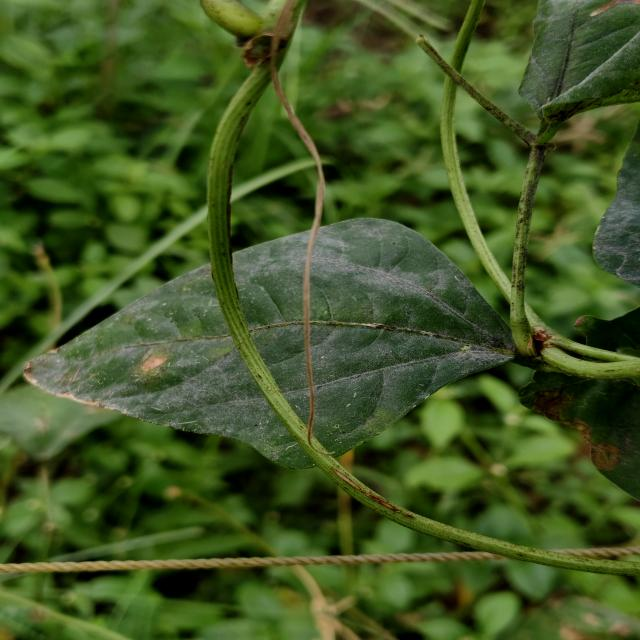leaf-moderate: (416, 35, 547, 168), (508, 146, 538, 347), (506, 327, 510, 338)
sitaw-aphid-high: (24, 265, 314, 468), (311, 257, 508, 455), (519, 0, 640, 130), (236, 275, 307, 415), (312, 218, 439, 284), (253, 324, 309, 425), (234, 231, 309, 284), (248, 266, 301, 324), (346, 188, 356, 189), (537, 86, 538, 88)
sitaw-aphid-low: (518, 371, 640, 500), (576, 308, 640, 355), (473, 80, 474, 93)
sitaw-healthy: (251, 355, 363, 495), (335, 473, 501, 554), (208, 76, 254, 320), (478, 538, 640, 576), (221, 304, 266, 366), (243, 341, 267, 400), (221, 315, 246, 358), (225, 303, 261, 330), (229, 312, 238, 328), (230, 311, 240, 323), (241, 330, 249, 342), (234, 328, 241, 335), (262, 418, 278, 421), (240, 323, 246, 329), (581, 568, 588, 570), (238, 328, 241, 330)
